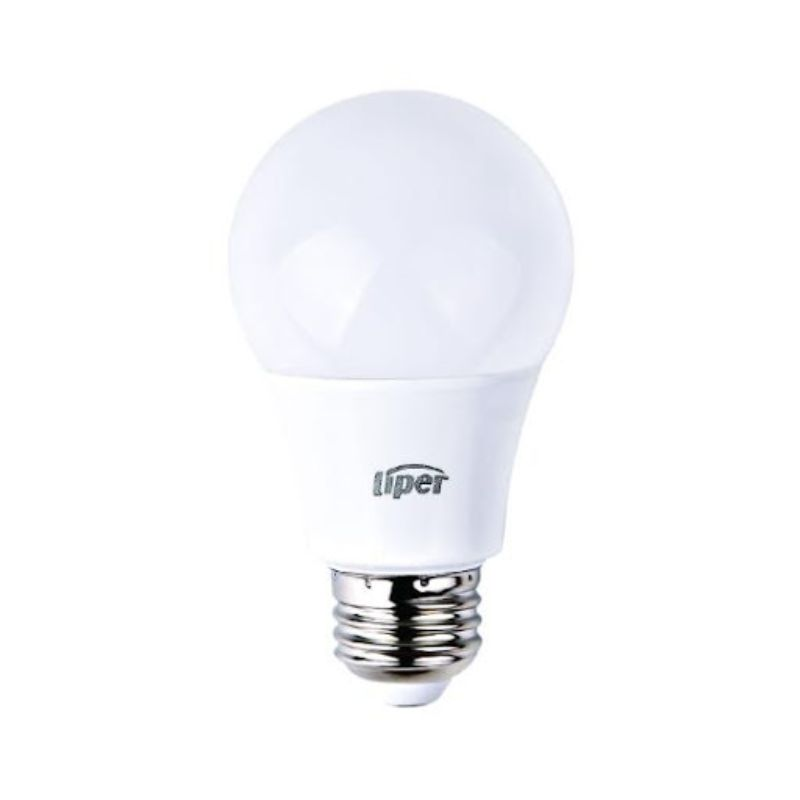Light_bulb: (217, 80, 588, 725)
